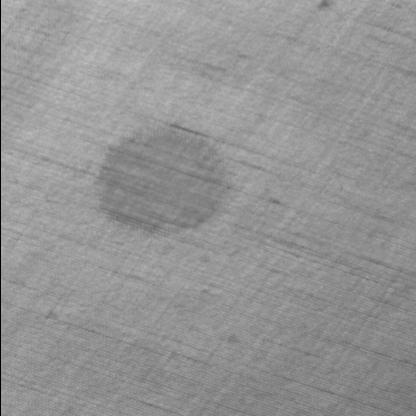oil spot: (90, 124, 225, 235)
